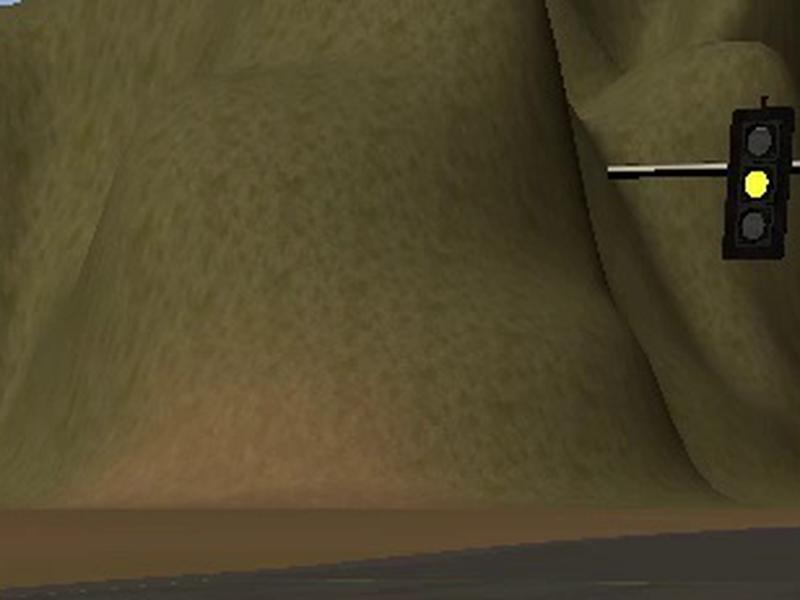Yellow: (721, 106, 795, 259)
